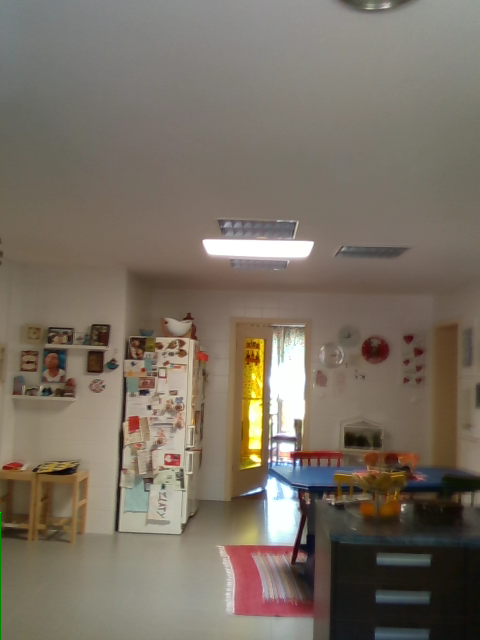semi: (225, 319, 309, 501)
